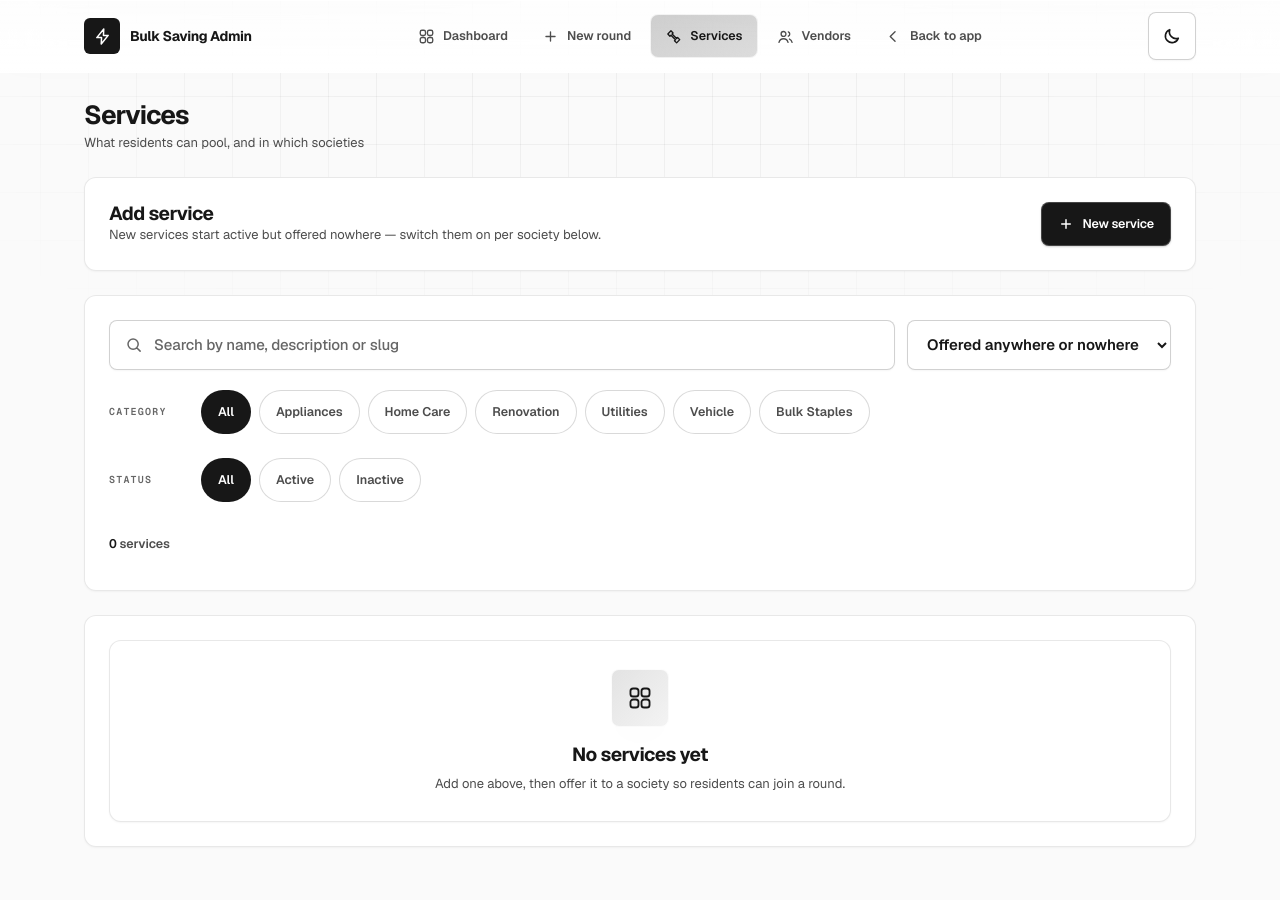
Scenario: AdminServicesPage › refuses to send a service with no category, or half a unit-label pair
This screenshot has width=1280, height=900.
Check: the element with test id "services-empty" is shown, box [109,640,1171,822]
Click the button "New service" at (1106, 224), box [1040,202,1171,246]
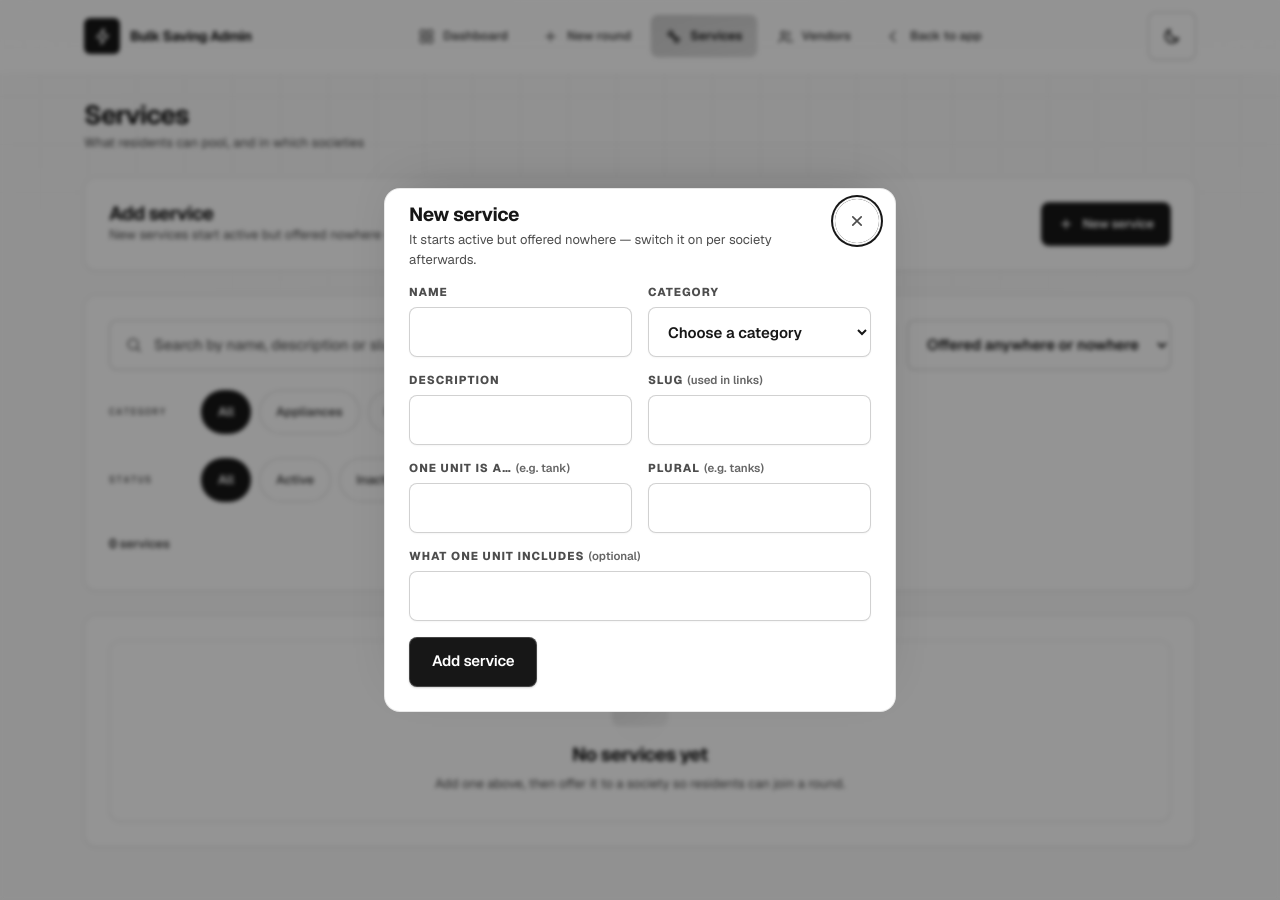
Type "Geyser Service" into the field labelled "Name" at (520, 332), box [409,307,632,357]
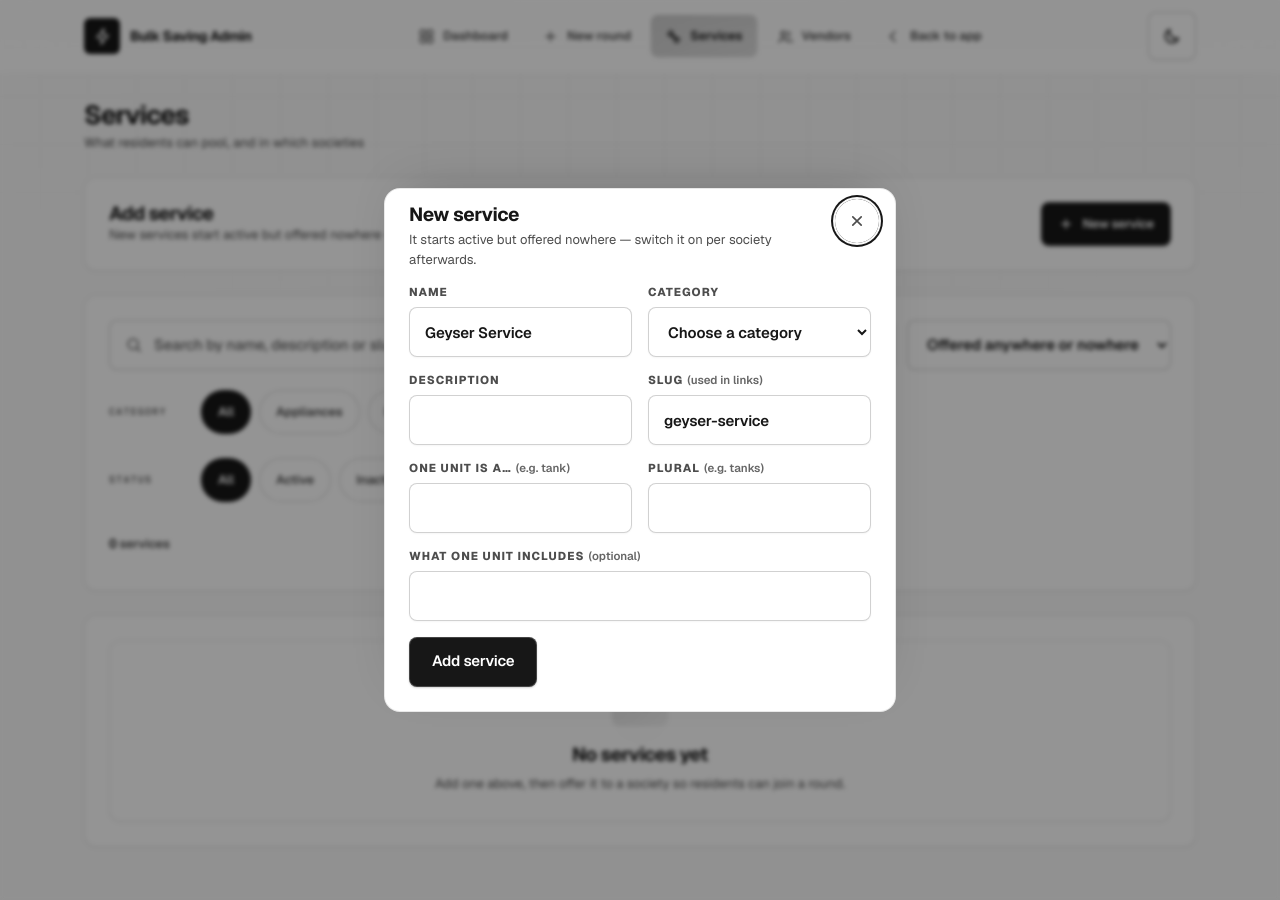
Type "Descale and check." into the field labelled "Description" at (520, 420), box [409,395,632,445]
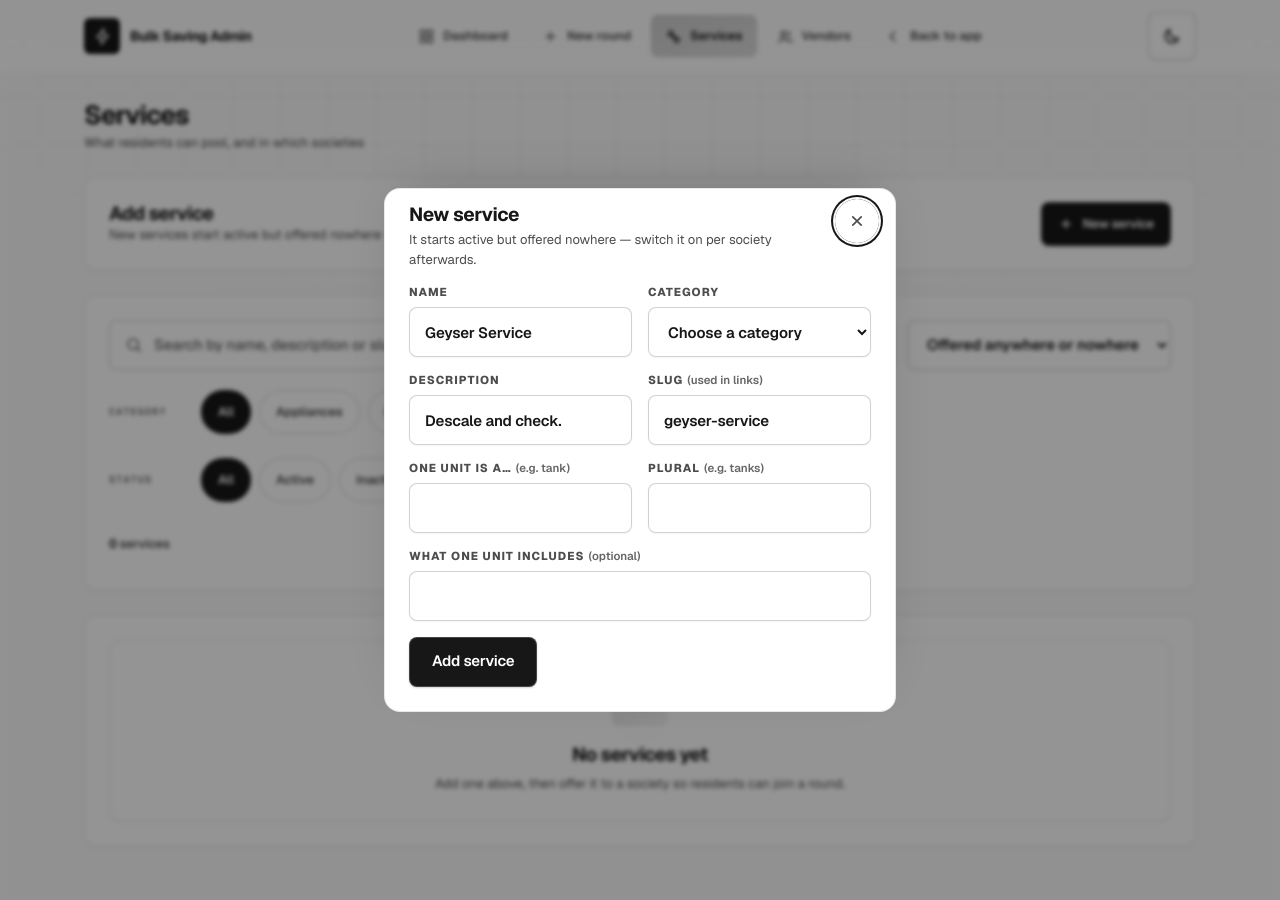
Type "geyser" into the field labelled "One unit is a…(e.g. tank)" at (520, 508), box [409,483,632,533]
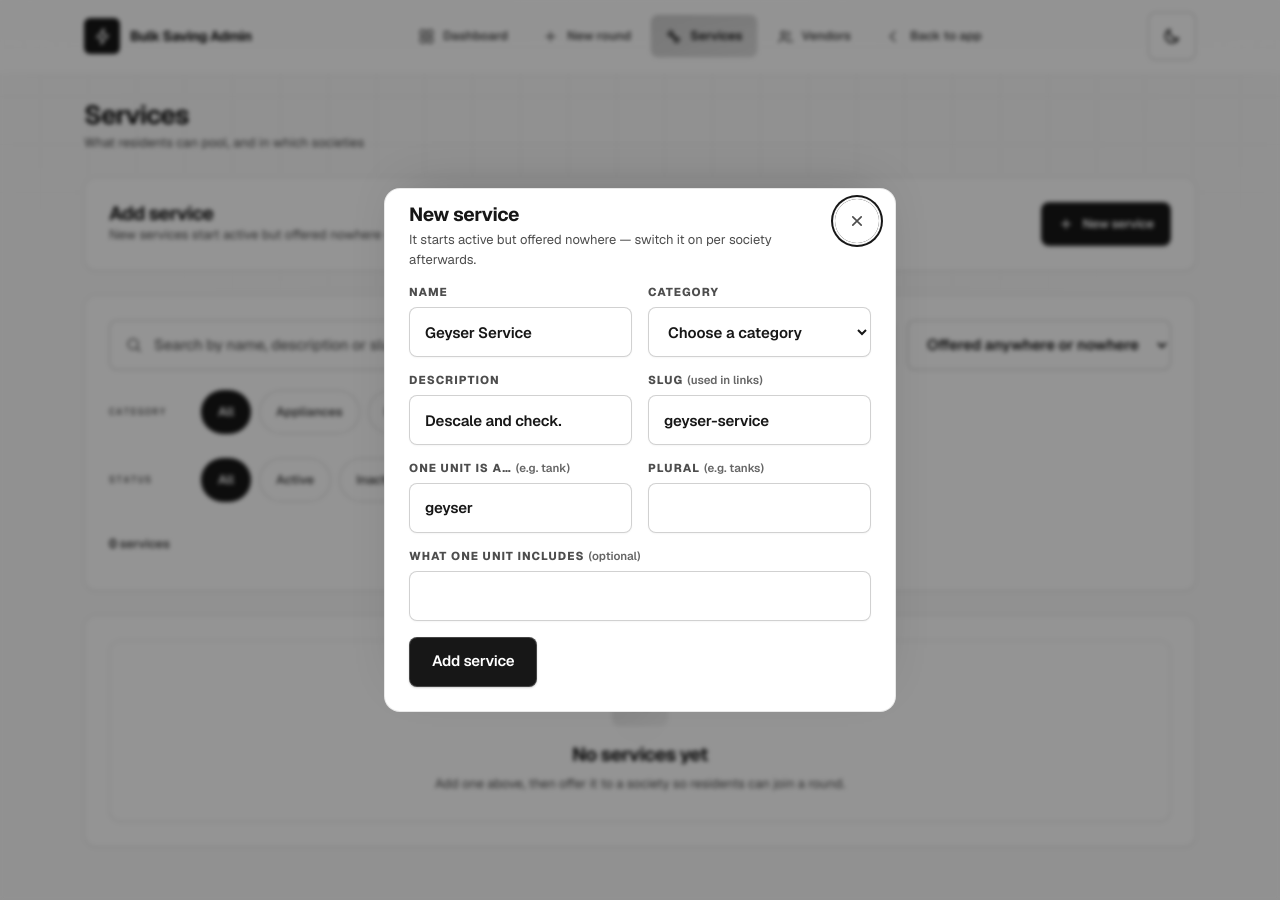
Click the button "Add service" at (473, 662), box [409,637,537,687]
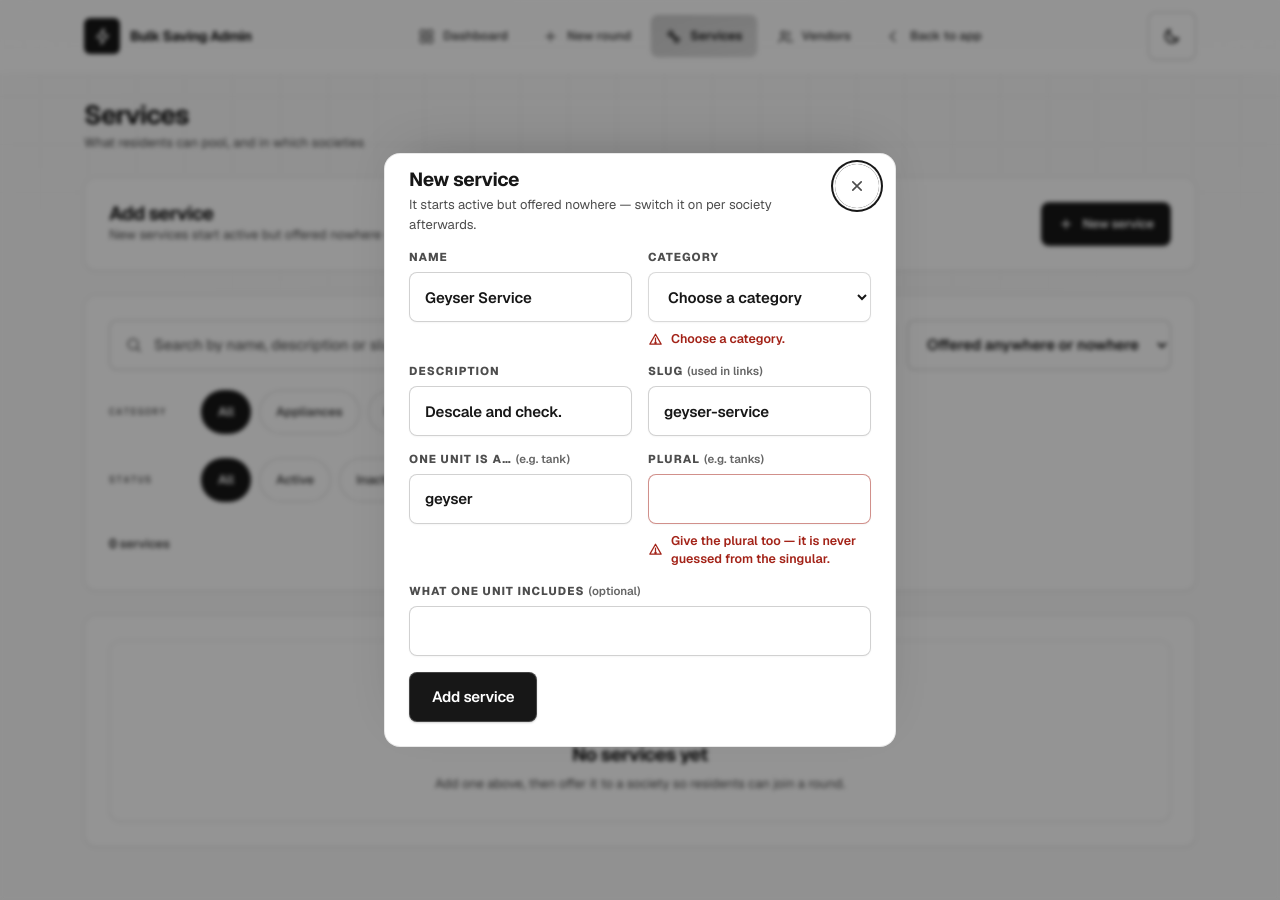
Check: the text "Choose a category." is shown, box [648,330,785,347]
Check: the text "Give the plural too — it is never guessed from the singular." is shown, box [648,532,871,568]
